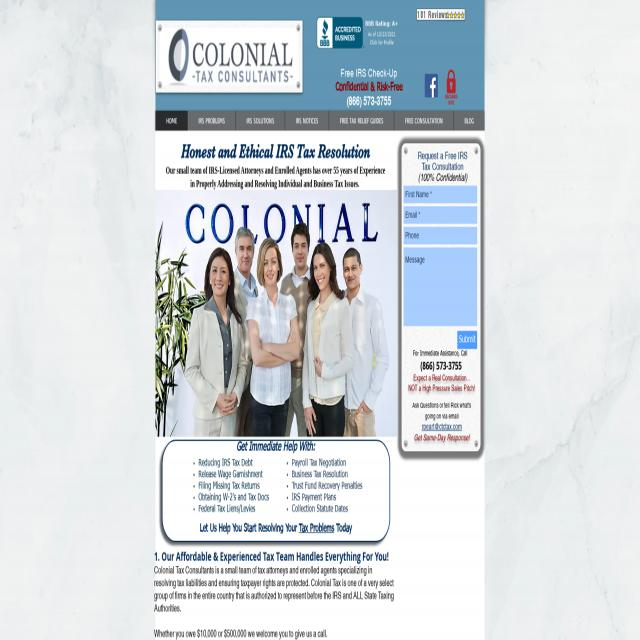button: (155, 190, 397, 436), (160, 28, 298, 85), (313, 8, 403, 57), (328, 110, 394, 130), (394, 110, 453, 130), (235, 110, 285, 130), (187, 110, 235, 130), (285, 110, 329, 130), (156, 110, 188, 130), (454, 110, 484, 130), (417, 9, 465, 20), (444, 70, 458, 105), (457, 331, 477, 349), (424, 74, 438, 97)
field: (404, 248, 477, 326), (404, 206, 477, 224), (404, 186, 477, 203), (404, 228, 477, 245)
